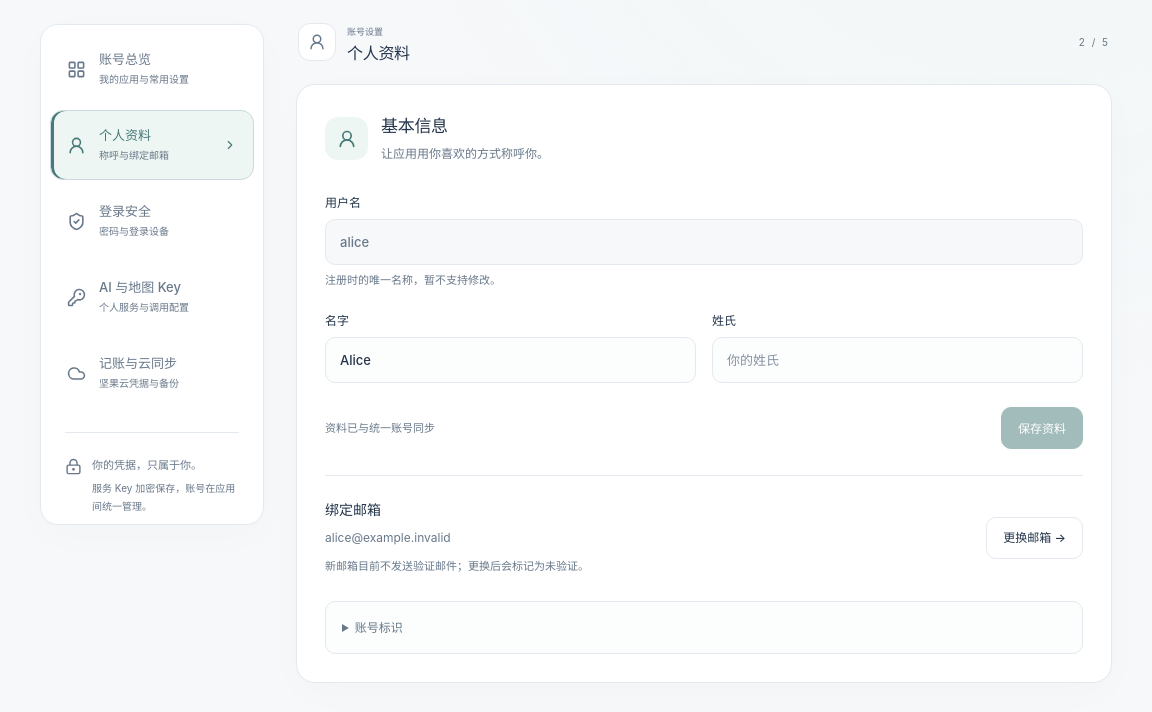
unified account management › enables profile save only after an edit and disables it after successful save
(page scrolled)
Expected: the button "保存资料" is disabled, [1001,407,1083,449]
Replace the text in the field labelled "名字" with "Alicia" at (510, 360), box [325,337,696,383]
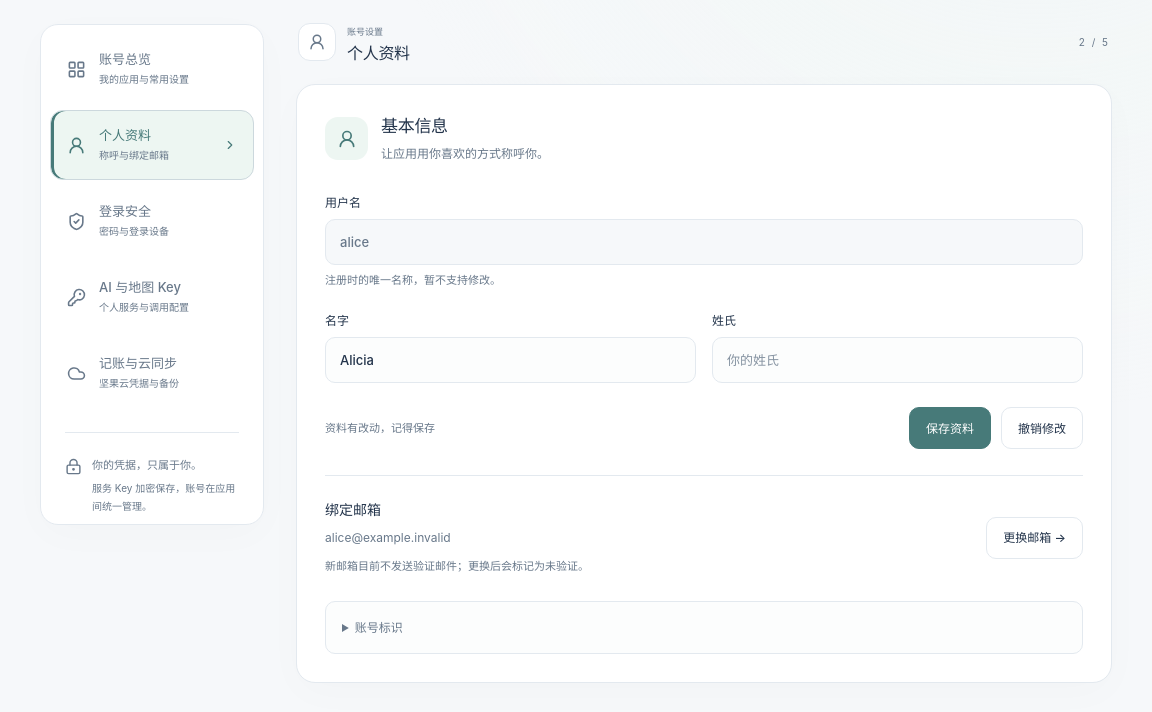
Expected: the button "保存资料" is enabled, [909,407,991,449]
Submit the form, box [325,193,1083,449]
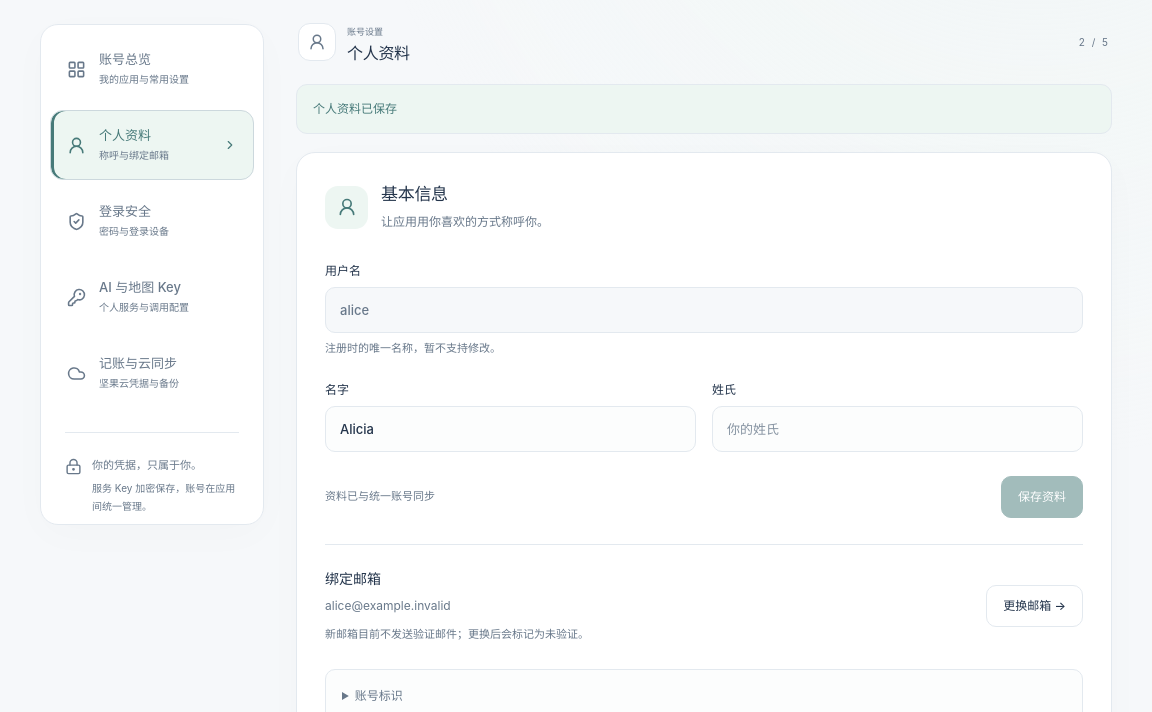
Expected: the button "保存资料" is disabled, [1001,476,1083,518]
Expected: the text "个人资料已保存" is shown, [296,84,1112,134]
